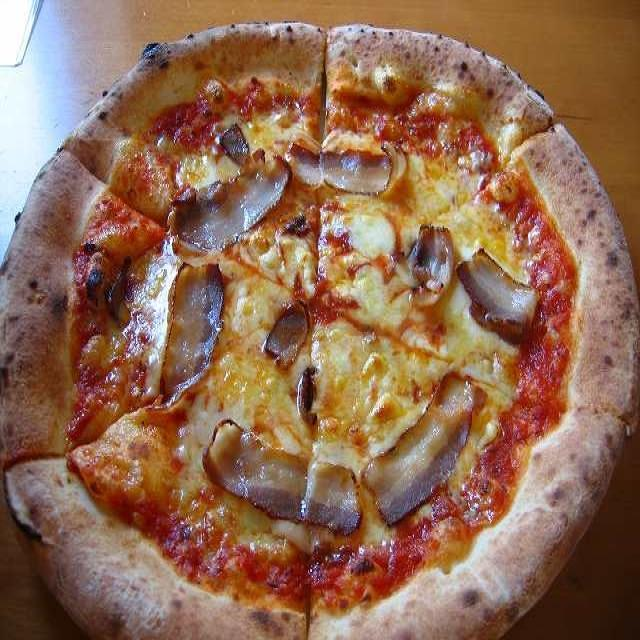Pizza: (5, 20, 640, 639)
